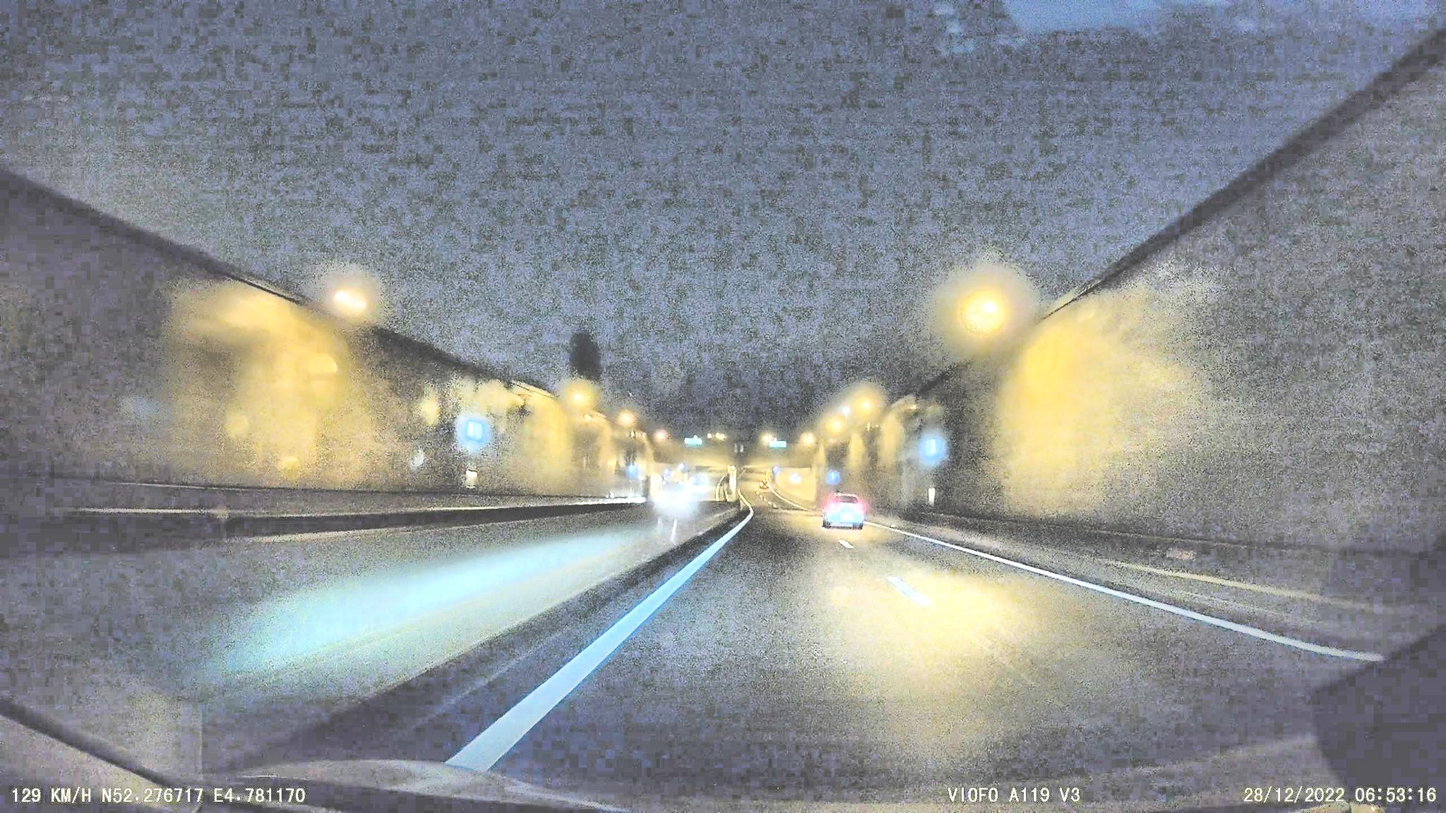Roads: (281, 487, 1434, 813)
